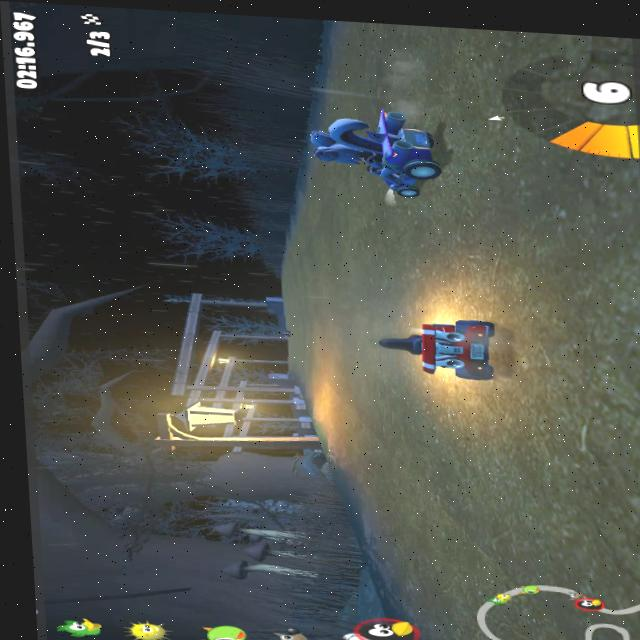enemy_kart: (306, 105, 453, 203)
player_kart: (372, 310, 514, 382)
track: (419, 382, 640, 640), (494, 29, 640, 396), (452, 27, 512, 316), (327, 197, 475, 313), (361, 375, 430, 564), (326, 19, 459, 110), (292, 229, 335, 410), (332, 378, 372, 478), (330, 305, 373, 379), (279, 266, 303, 331), (292, 196, 327, 233), (280, 335, 306, 373), (316, 408, 339, 435)
